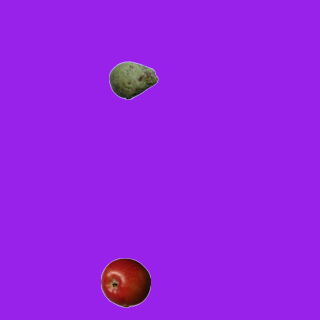Apple Braeburn: (100, 257, 150, 307)
Pear Stone: (108, 55, 158, 105)
